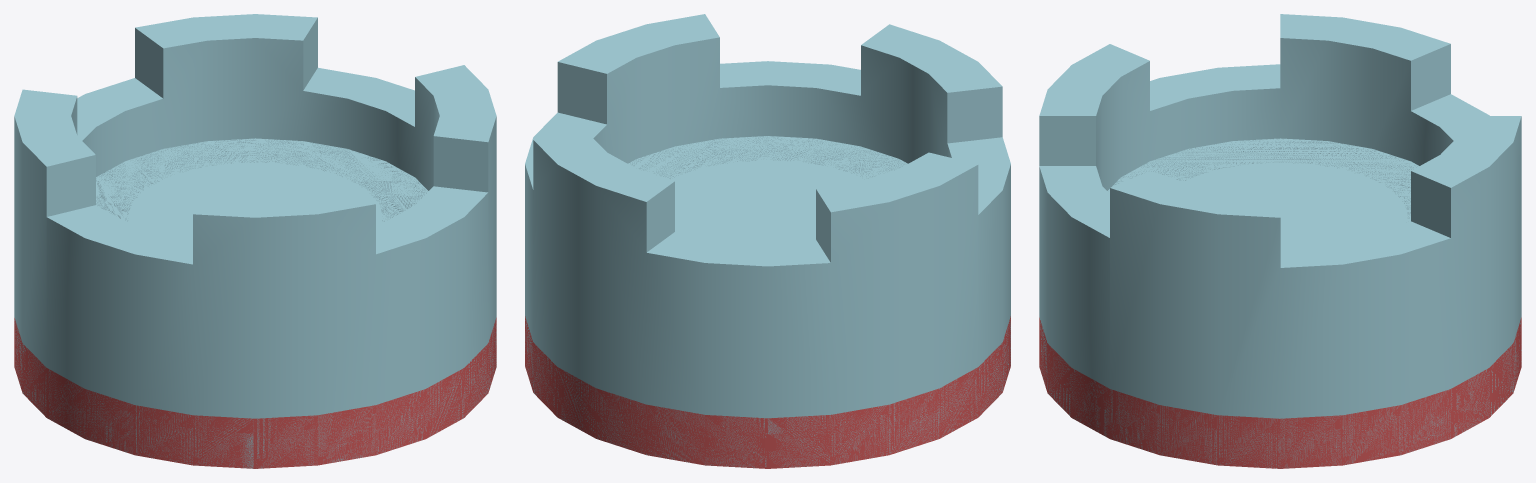
Rendered from towerRound_topA.dae.
3 renders of one model, left to right at view 1: azimuth 30°, elevation 25°; view 2: azimuth 150°, elevation 25°; view 3: azimuth 270°, elevation 25°, orthographic.
Parts seen in each view (by area): view 1: towerRound_topA; view 2: towerRound_topA; view 3: towerRound_topA.
Boxes of the visible parts, x1=… form: towerRound_topA: x1=14, y1=14, x2=496, y2=468; towerRound_topA: x1=525, y1=14, x2=1010, y2=468; towerRound_topA: x1=1039, y1=14, x2=1521, y2=468.
Bounding box in the file's own units: 0.87 × 0.5 × 0.87.
